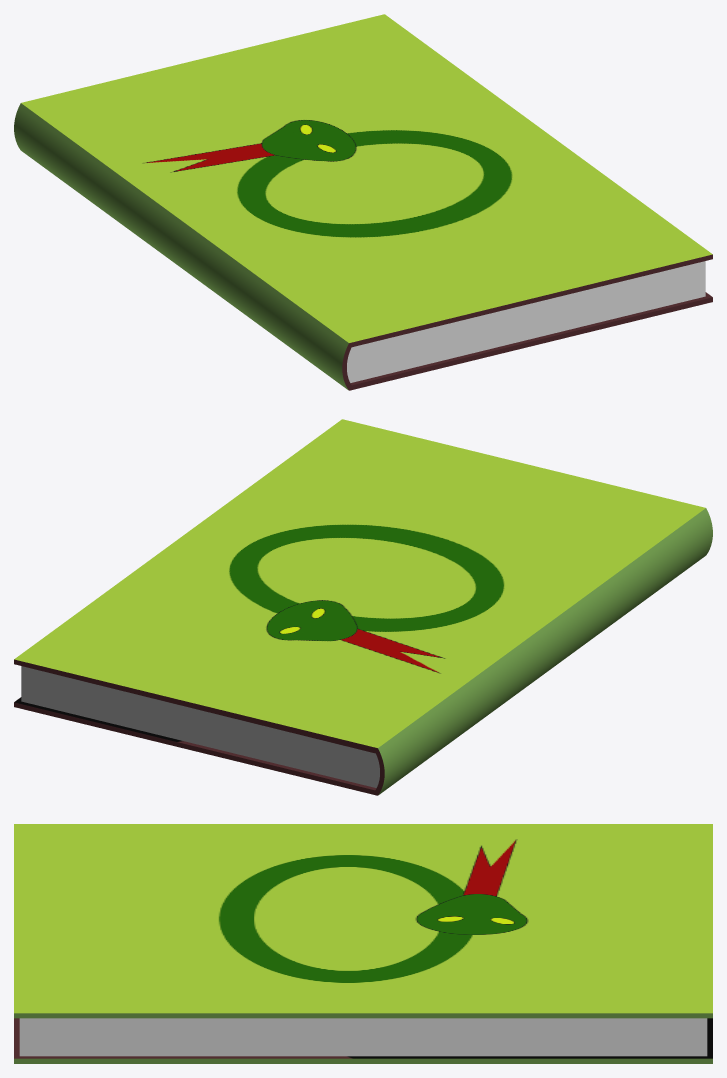
The model's file is charm book final.fbx.
3 renders of one model, top to bottom at view 1: azimuth 30°, elevation 25°; view 2: azimuth 150°, elevation 25°; view 3: azimuth 270°, elevation 25°, orthographic. The views are drawn at different scales.
Visible parts, largest first — view 1: book_shape:polySurface1; view 2: book_shape:polySurface1; view 3: book_shape:polySurface1.
Part boxes in pixels (x1,y1,x2,y2): book_shape:polySurface1: (14, 14, 712, 390); book_shape:polySurface1: (14, 419, 712, 795); book_shape:polySurface1: (14, 824, 712, 1063).
Bounding box in the file's own units: 16.3 × 2 × 25.
